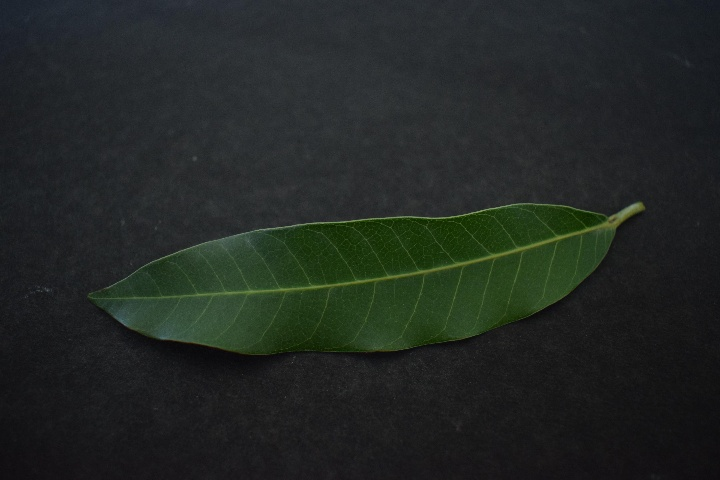healthy: (102, 199, 623, 359)
